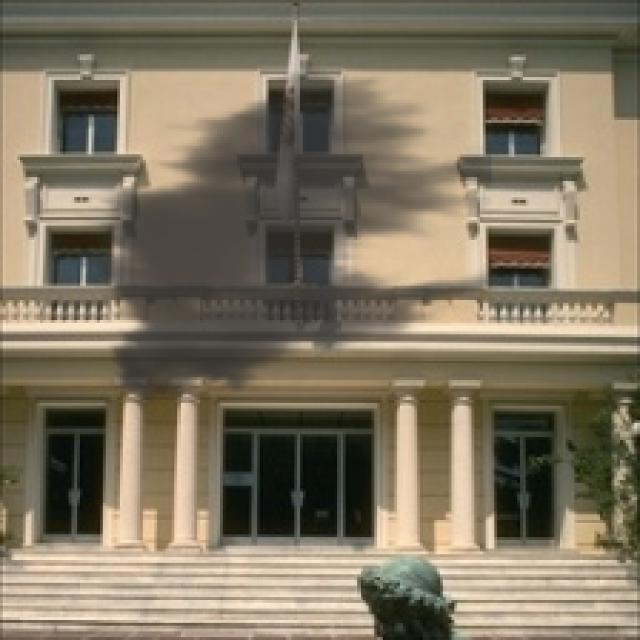Smoke: (74, 57, 492, 417)
